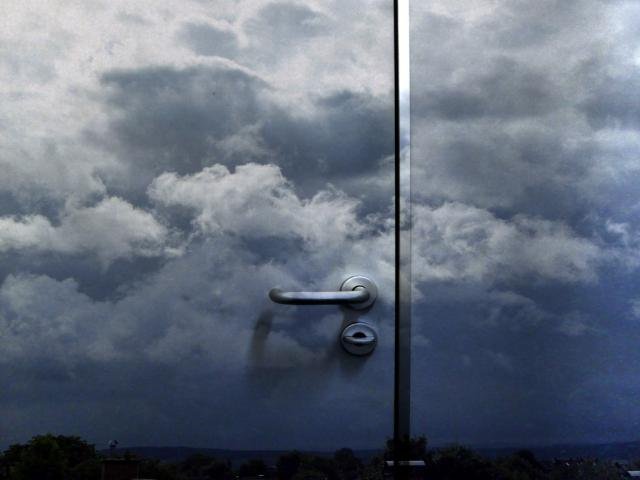Door-handle: (270, 274, 378, 310)
